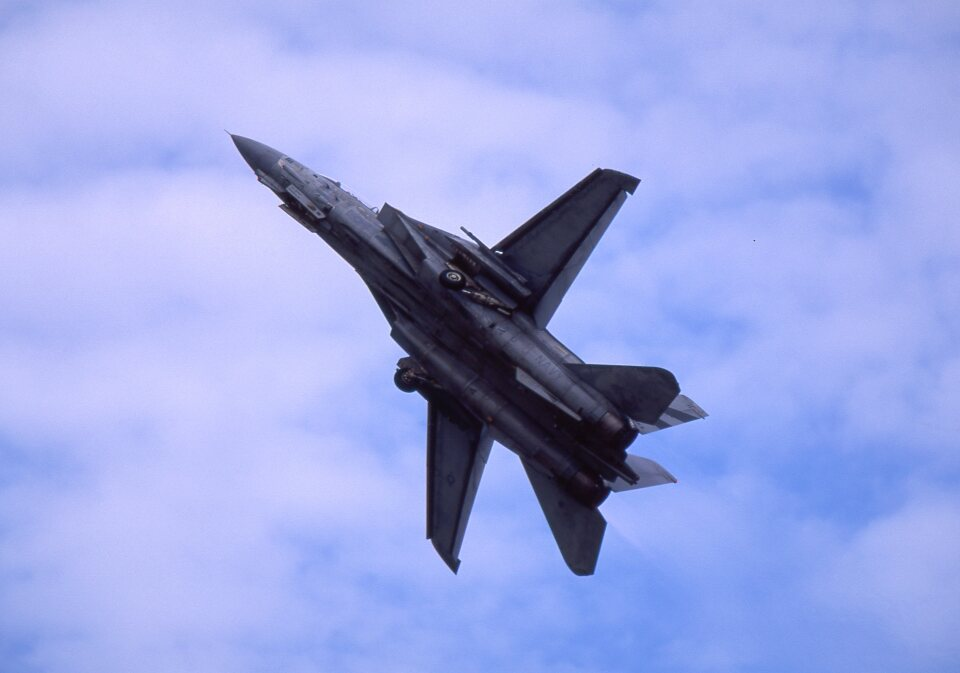F14: (223, 129, 710, 577)
